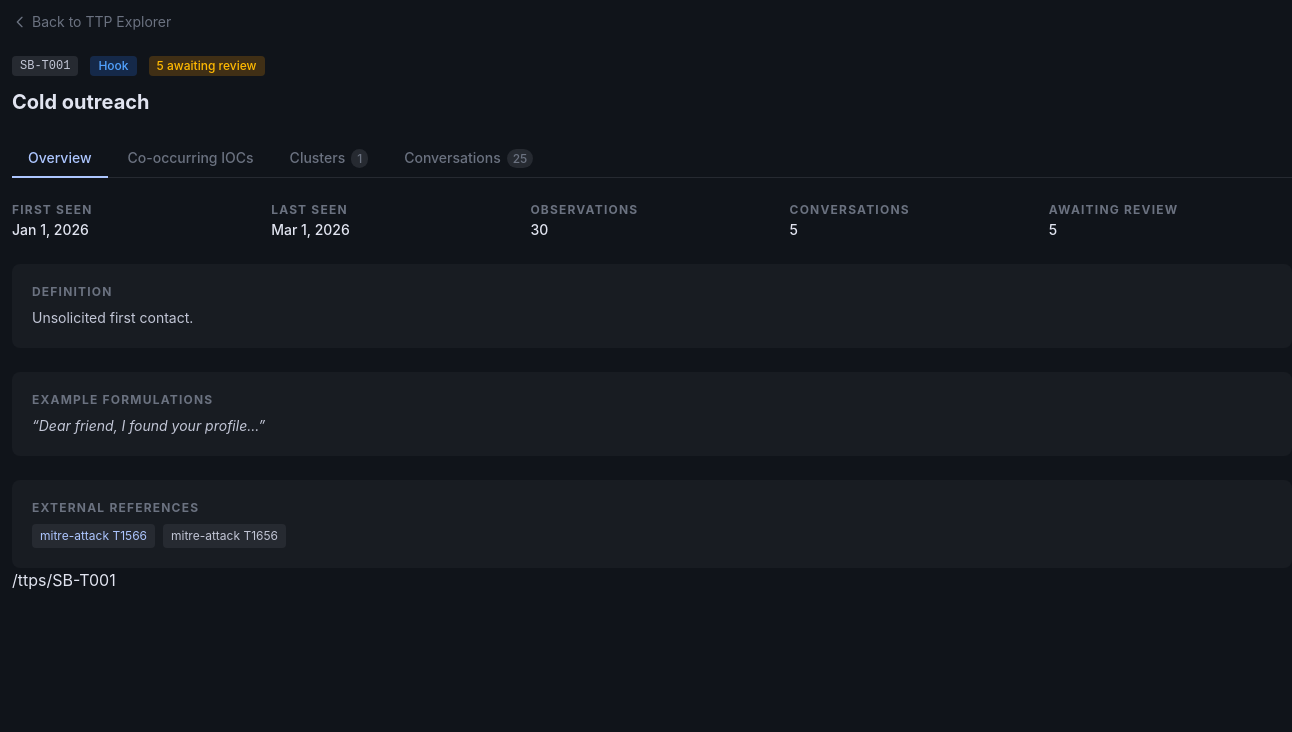
Test: TtpDetail › shows an empty note on the IOC tab when the TTP has no co-occurring IOCs
Expected: the heading "Cold outreach" is shown, [12,90,150,114]
Click the button with test id "ttp-detail-tab-iocs" at point(191, 159), box [112,140,270,178]
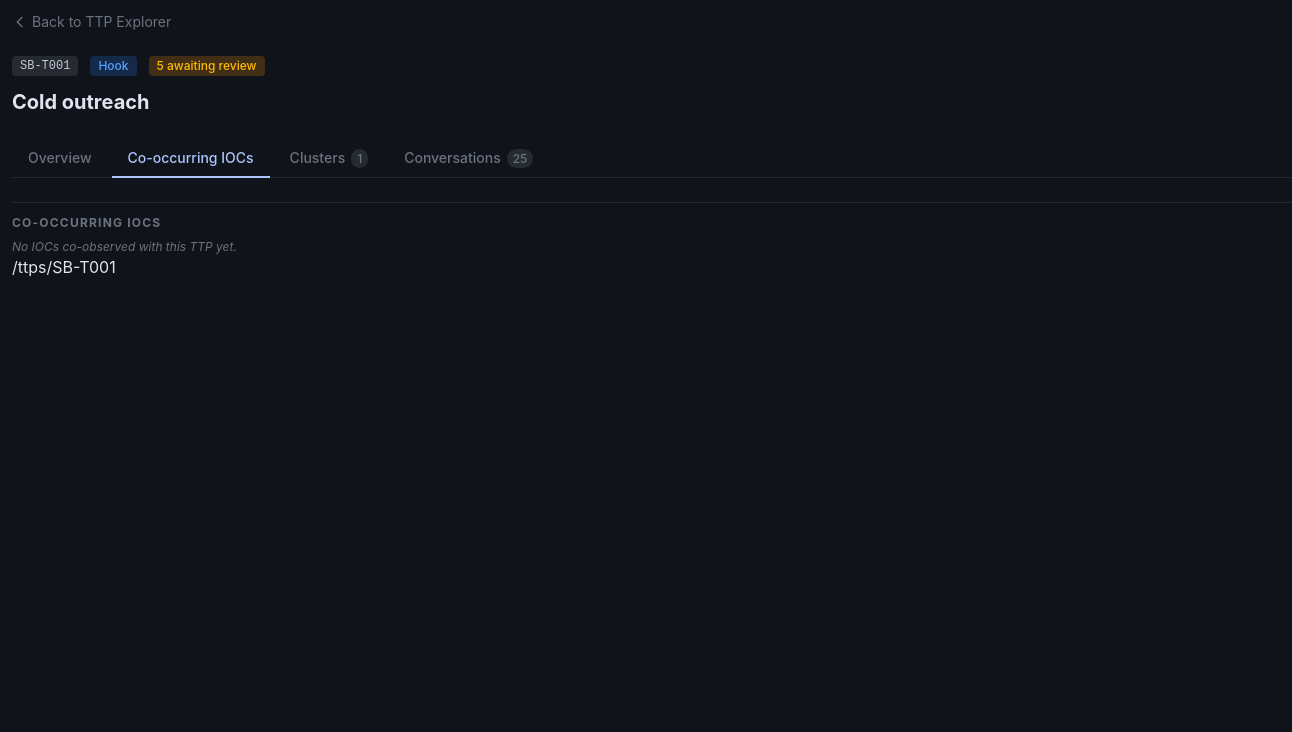
Expected: the text "No IOCs co-observed with this TTP yet." is shown, [12,239,237,254]
